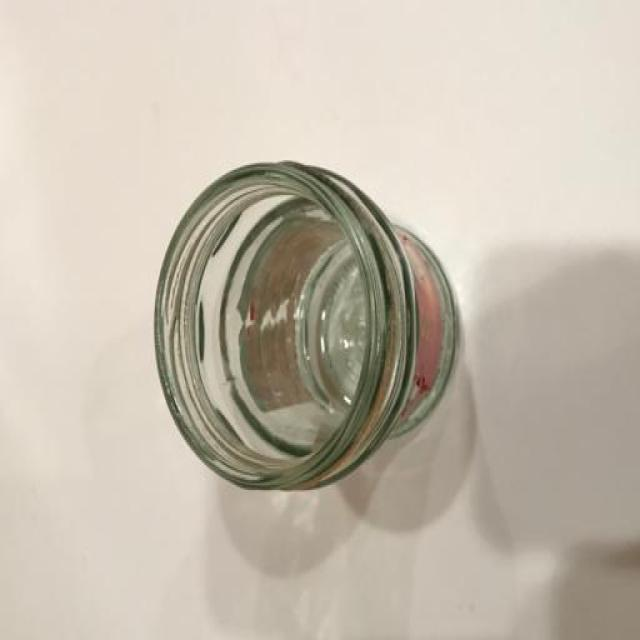Glass: (152, 158, 462, 492)
